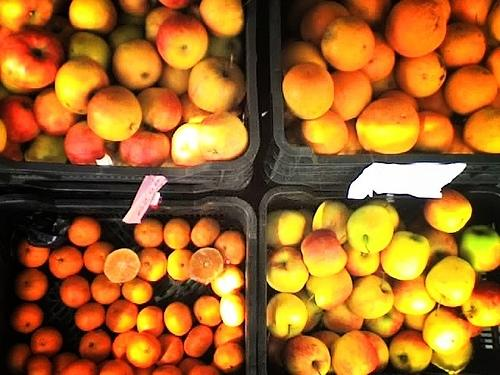apple: (0, 28, 66, 99), (188, 54, 246, 114), (54, 57, 111, 115), (88, 85, 143, 142), (156, 15, 209, 69), (113, 39, 164, 91), (198, 111, 250, 162), (332, 330, 390, 374), (425, 256, 476, 306), (380, 231, 431, 280), (118, 121, 172, 167), (300, 228, 348, 277), (423, 307, 472, 355), (347, 204, 394, 254), (346, 270, 394, 318), (424, 188, 474, 234), (64, 121, 116, 164), (412, 226, 458, 274), (33, 88, 76, 138), (266, 246, 310, 294), (62, 32, 112, 74), (266, 292, 308, 342), (136, 87, 182, 132), (458, 224, 500, 272), (306, 268, 354, 310), (280, 335, 330, 375), (389, 329, 432, 375), (68, 0, 120, 38), (1, 95, 41, 143), (310, 200, 353, 244), (391, 274, 437, 315), (146, 6, 186, 53), (461, 281, 500, 327), (0, 0, 56, 32), (199, 0, 244, 38), (315, 300, 364, 333), (266, 210, 306, 250), (171, 122, 207, 166), (430, 340, 474, 375), (176, 91, 213, 131), (292, 286, 324, 332), (24, 131, 68, 163), (156, 60, 193, 98), (343, 242, 380, 276), (364, 199, 400, 233), (365, 306, 404, 337), (106, 24, 144, 54), (402, 302, 439, 332), (208, 34, 242, 64), (310, 330, 341, 354), (119, 2, 151, 19), (1, 142, 24, 162), (463, 318, 482, 338), (160, 0, 192, 9), (0, 119, 7, 154)
orange: (356, 97, 420, 156), (384, 1, 446, 57), (320, 16, 376, 72), (282, 62, 334, 120), (443, 65, 497, 116), (395, 52, 448, 98), (301, 108, 350, 155), (300, 3, 351, 48), (438, 22, 486, 69), (330, 71, 372, 121), (356, 30, 395, 82), (462, 106, 500, 155), (412, 111, 454, 153), (282, 41, 328, 77), (344, 0, 394, 31), (188, 247, 224, 286), (126, 332, 163, 369), (104, 248, 141, 283), (414, 84, 452, 118), (450, 1, 494, 28), (14, 268, 48, 302), (438, 124, 476, 154), (48, 246, 83, 278), (214, 231, 246, 266), (80, 330, 112, 364), (212, 264, 244, 298), (371, 66, 401, 102), (112, 331, 144, 364), (106, 300, 138, 333), (137, 248, 168, 282), (74, 300, 106, 332), (31, 326, 63, 358), (12, 301, 44, 333), (60, 275, 91, 308), (68, 216, 101, 247), (376, 89, 419, 112), (163, 302, 192, 336), (184, 324, 213, 358), (213, 343, 244, 374), (190, 216, 220, 248), (18, 238, 50, 268), (84, 242, 114, 274), (192, 295, 222, 327), (156, 334, 185, 367), (337, 120, 364, 155), (90, 274, 120, 305), (166, 249, 194, 282), (219, 292, 245, 327), (136, 306, 165, 337), (5, 342, 33, 374), (162, 218, 190, 250), (134, 218, 163, 248), (122, 276, 153, 304), (214, 323, 244, 348), (58, 358, 100, 375), (50, 353, 78, 375), (98, 359, 134, 375), (487, 0, 500, 42), (487, 46, 500, 88), (178, 357, 205, 375), (28, 356, 52, 375), (188, 365, 221, 375), (152, 365, 184, 375), (133, 365, 156, 375), (489, 88, 500, 108)
